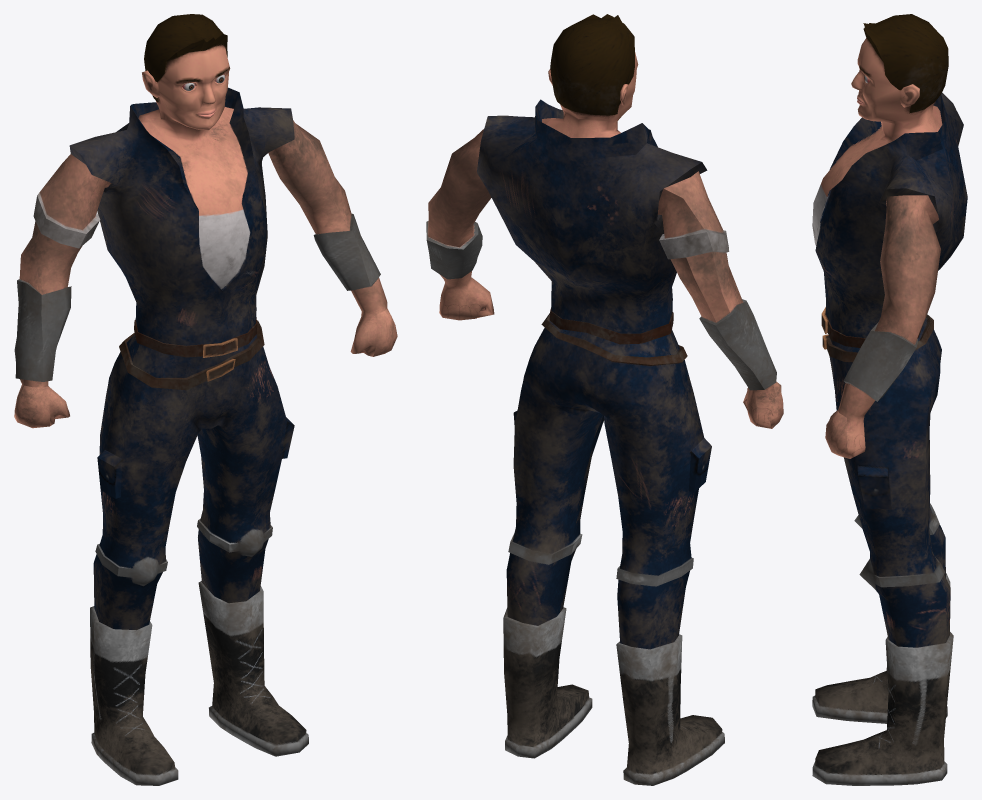
File: Anim_idle_jugador.0035.obj
3 renders of one model, left to right at view 1: azimuth 30°, elevation 25°; view 2: azimuth 150°, elevation 25°; view 3: azimuth 270°, elevation 25°, orthographic.
Visible parts, largest first — view 1: polySurface1; view 2: polySurface1; view 3: polySurface1.
Part boxes in pixels (x1,y1,x2,y2): polySurface1: [14, 14, 397, 785]; polySurface1: [426, 14, 783, 785]; polySurface1: [812, 14, 967, 785].
Size of the model in its own units: 4.98 by 9.63 by 1.86.
